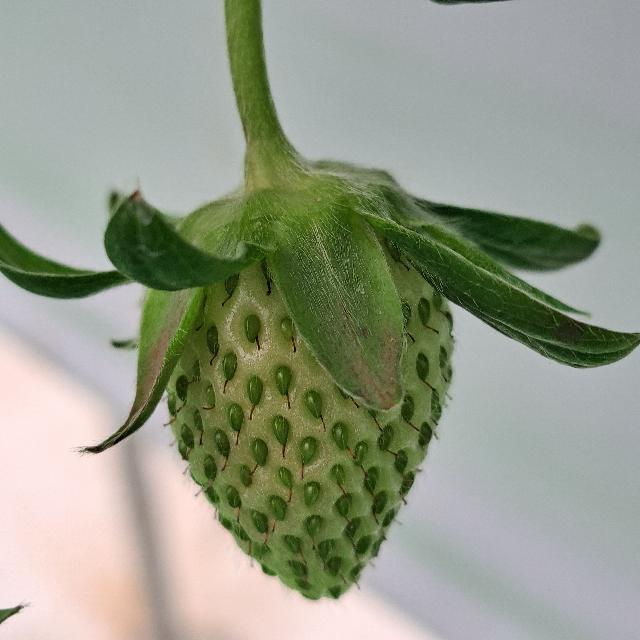Health_25: (164, 255, 453, 600)
